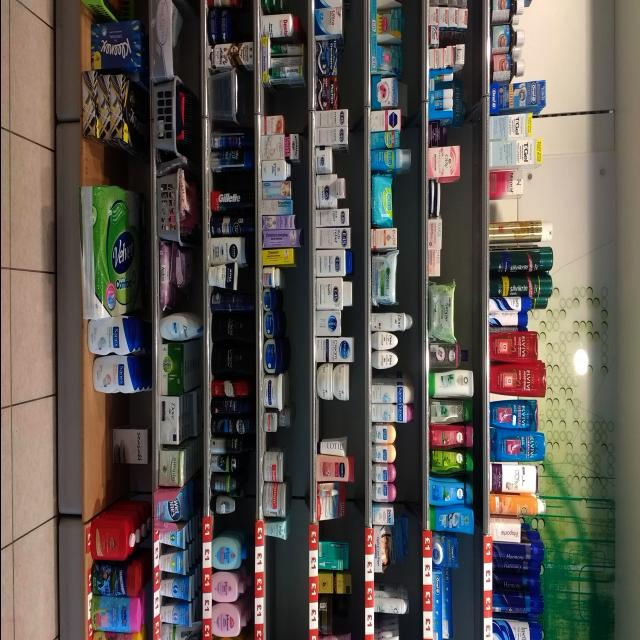empty_space: (87, 402, 109, 510), (268, 543, 292, 634), (86, 152, 126, 188), (320, 404, 346, 436), (489, 200, 519, 223), (258, 93, 282, 115), (210, 173, 238, 191), (213, 515, 235, 535), (317, 520, 341, 536), (262, 434, 278, 448)
